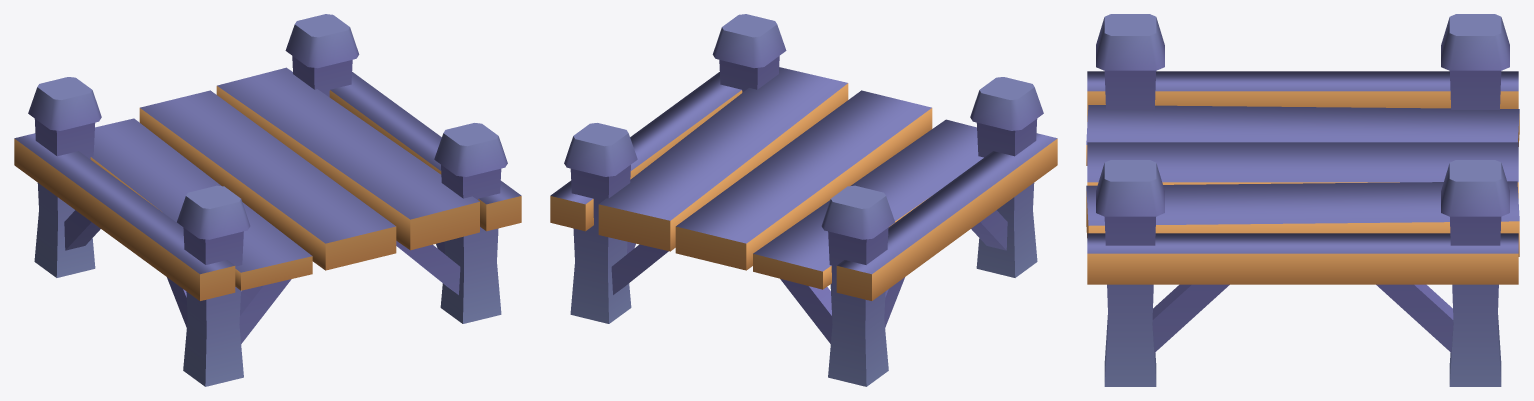
The model's file is structure-platform-dock.fbx.
The picture shows the model from 3 angles, left to right: view 1: azimuth 30°, elevation 25°; view 2: azimuth 150°, elevation 25°; view 3: azimuth 270°, elevation 25°; orthographic projection. The views are drawn at different scales.
Visible parts, largest first — view 1: structure-platform-dock; view 2: structure-platform-dock; view 3: structure-platform-dock.
Part boxes in pixels (x1,y1,x2,y2): structure-platform-dock: (14,14,521,386); structure-platform-dock: (550,14,1057,386); structure-platform-dock: (1086,14,1519,386).
Bounding box in the file's own units: 250 × 131 × 251.
